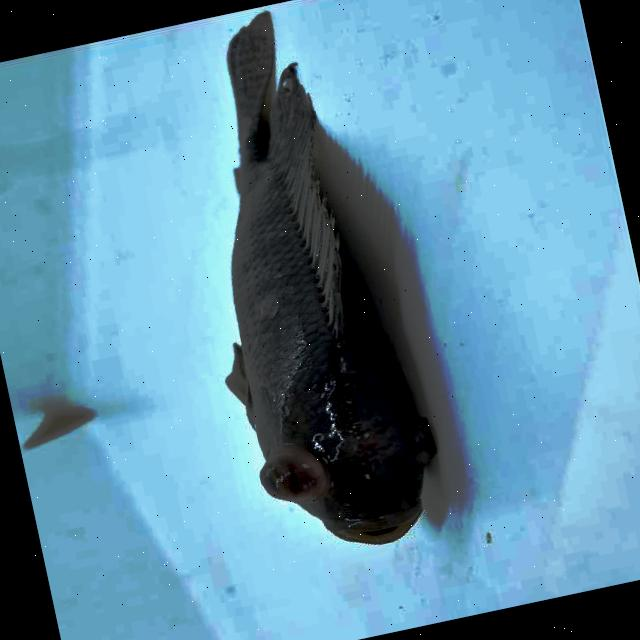Streptococcus: (227, 13, 435, 544)
